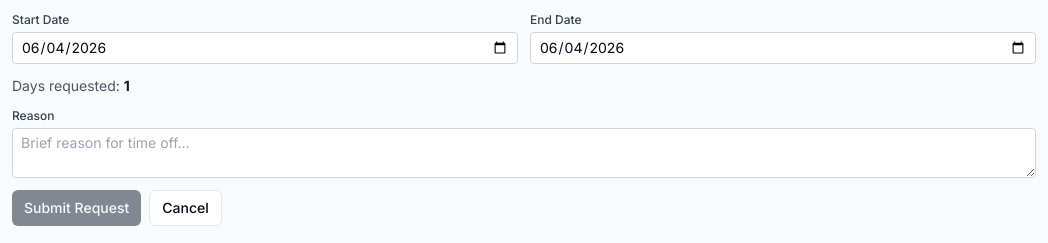
RequestForm › enables submit when days are within balance and reason filled
Step 1. Type "Vacation" into the text box labelled "Reason" → point(524, 153), box [12, 128, 1036, 178]
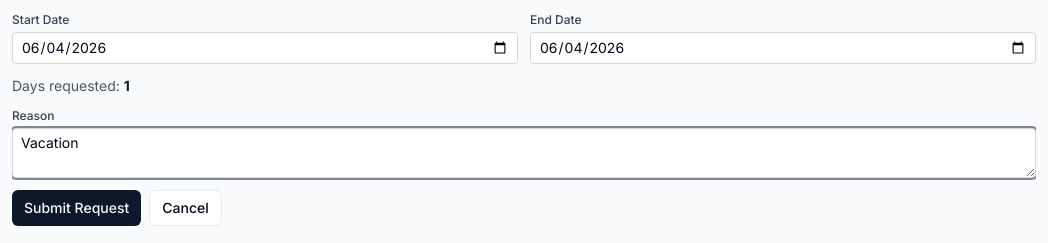
Check: the button "Submit Request" is enabled, box [12, 190, 141, 226]
